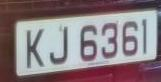1: (140, 16, 154, 61)
3: (100, 18, 121, 66)
6: (77, 19, 101, 68), (120, 17, 141, 63)
J: (48, 22, 74, 70)
K: (23, 23, 48, 74)
